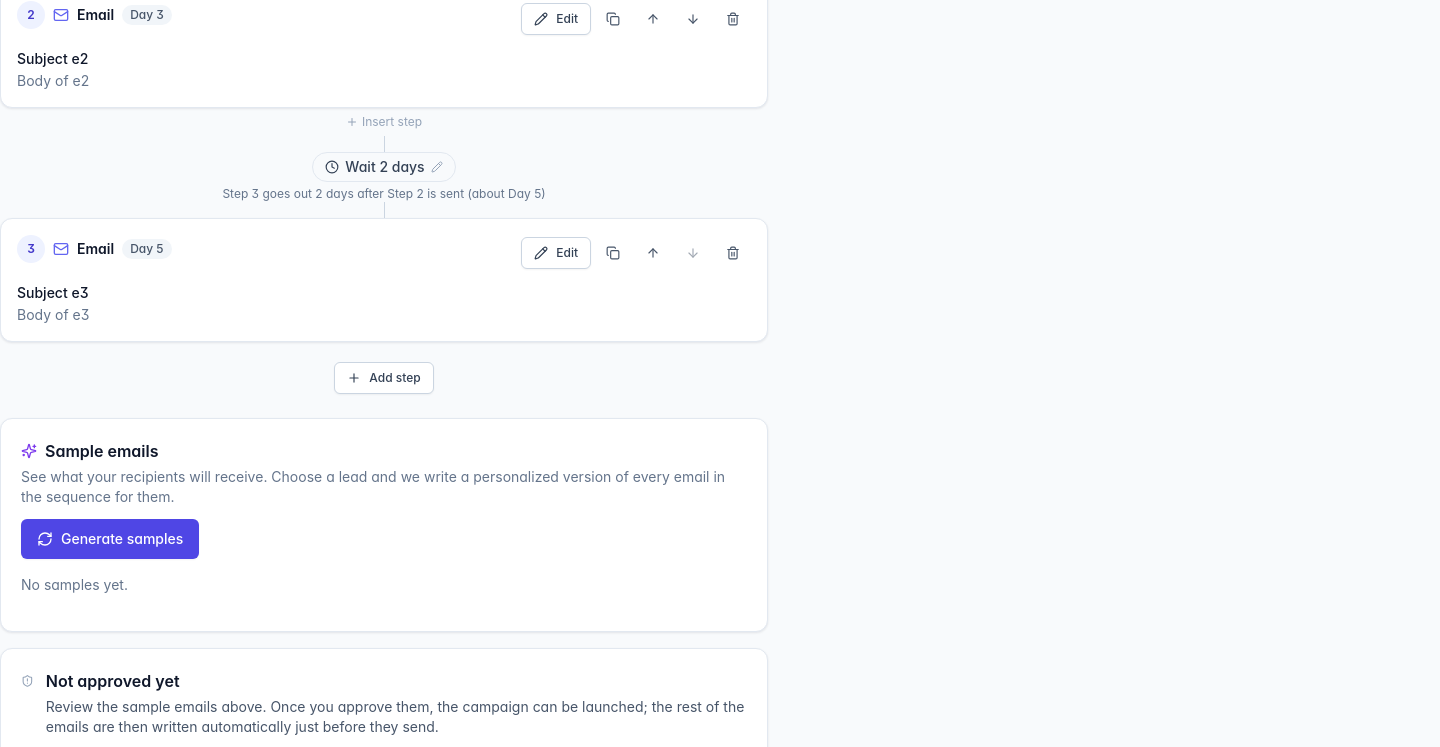
Sequence tab: hyper-personalized campaigns › preview and approval (inline) › offers samples, then shows them, using a fresh batch id
(page scrolled)
expect the heading "Not approved yet" is shown: met, box x1=46 y1=671 x2=180 y2=691
Click the button "Generate samples": (110, 539) x1=21 y1=519 x2=199 y2=559
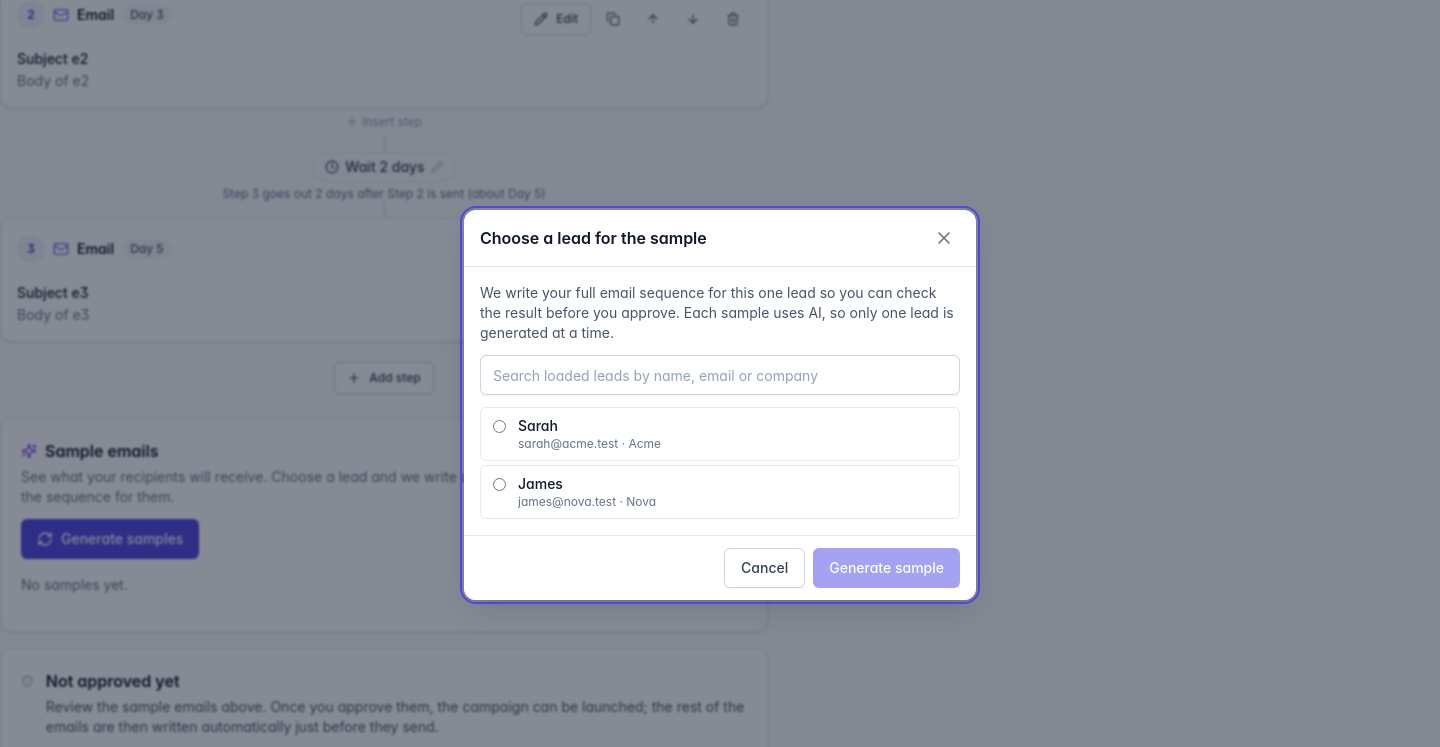
expect the button "Generate sample" is disabled: met, box x1=813 y1=548 x2=960 y2=588
Click the radio button labelled "James james@nova.test · Nova": (500, 484) x1=493 y1=478 x2=506 y2=491
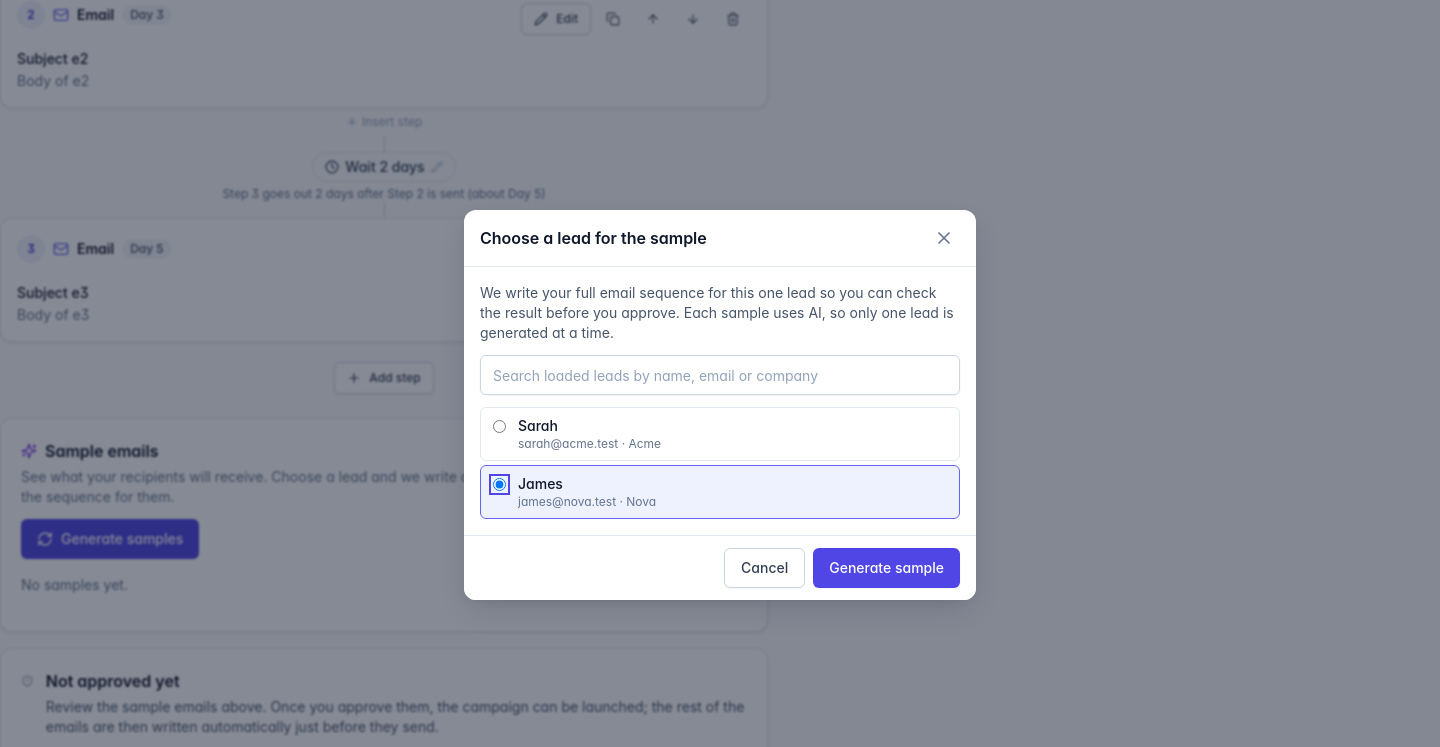
Click the button "Generate sample": (887, 568) x1=813 y1=548 x2=960 y2=588
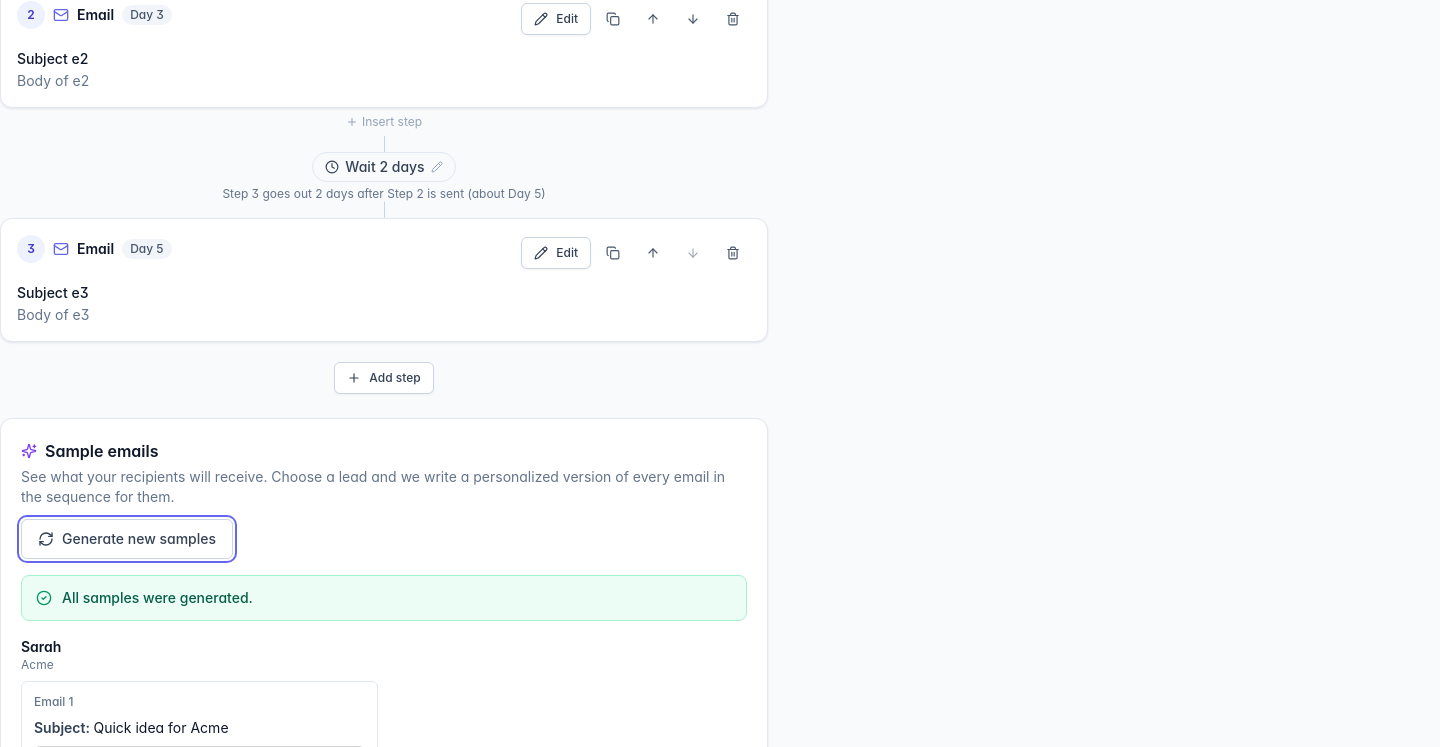
expect the text "Quick idea for Acme" is shown: met, box x1=94 y1=719 x2=229 y2=736
